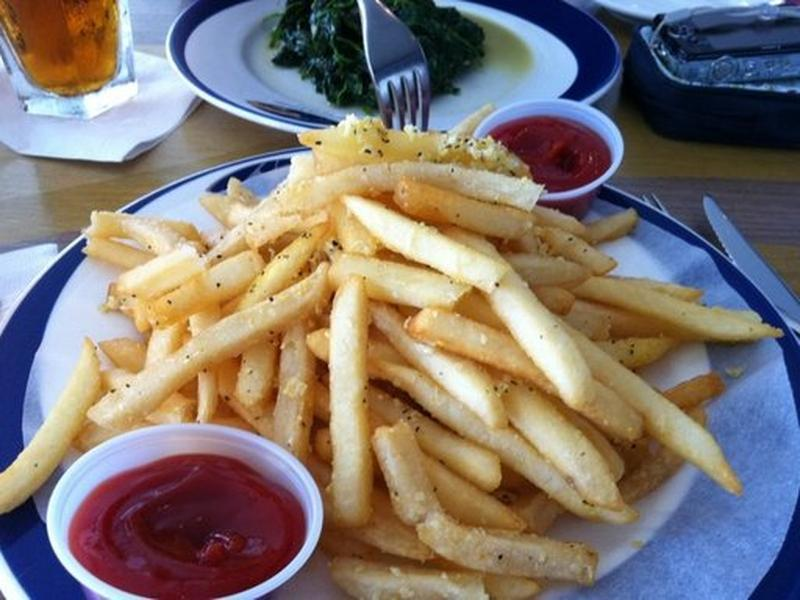french_fries: (108, 125, 695, 538)
